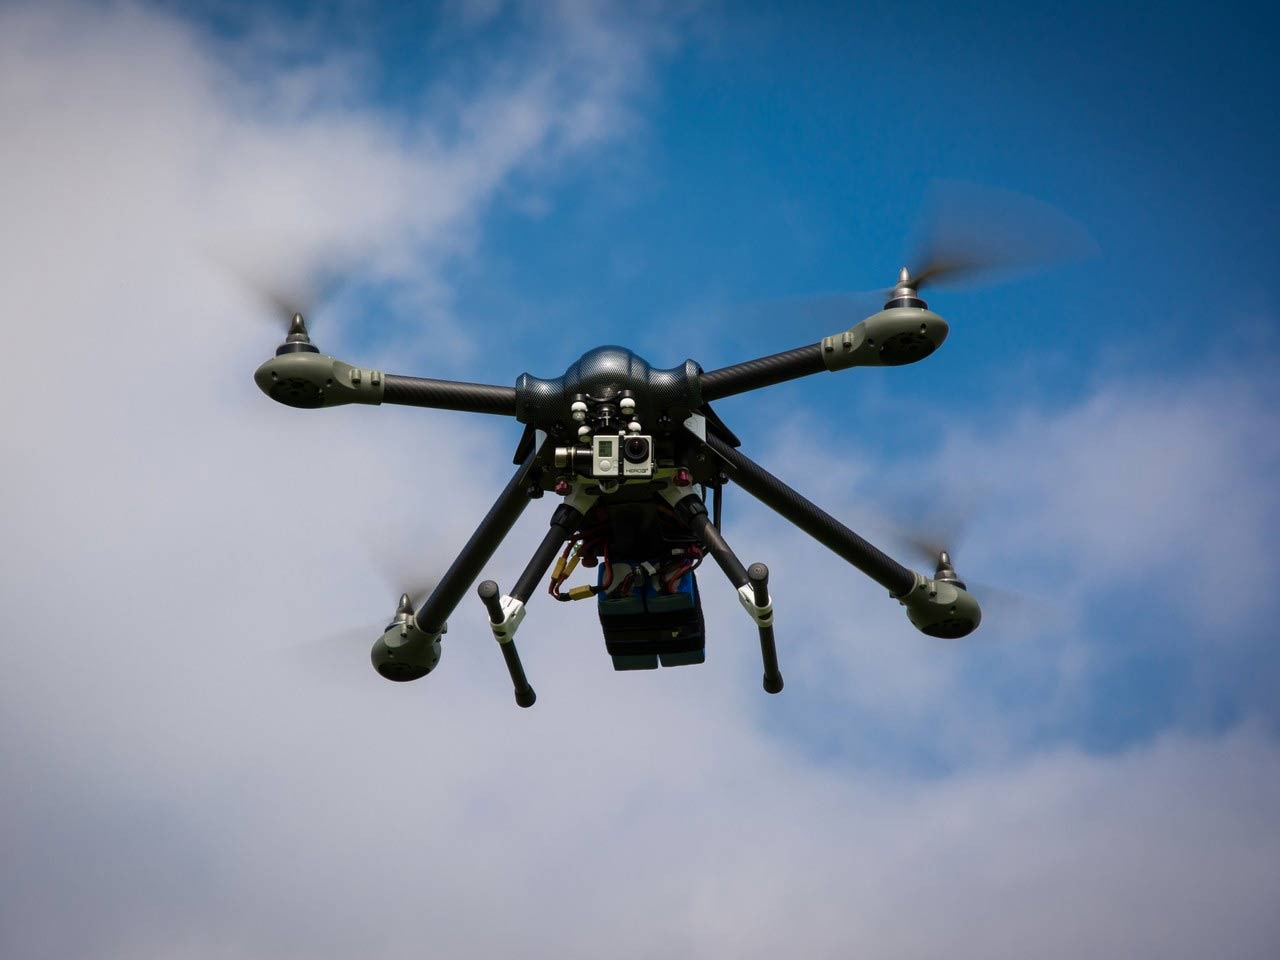drone: (200, 225, 1089, 728)
